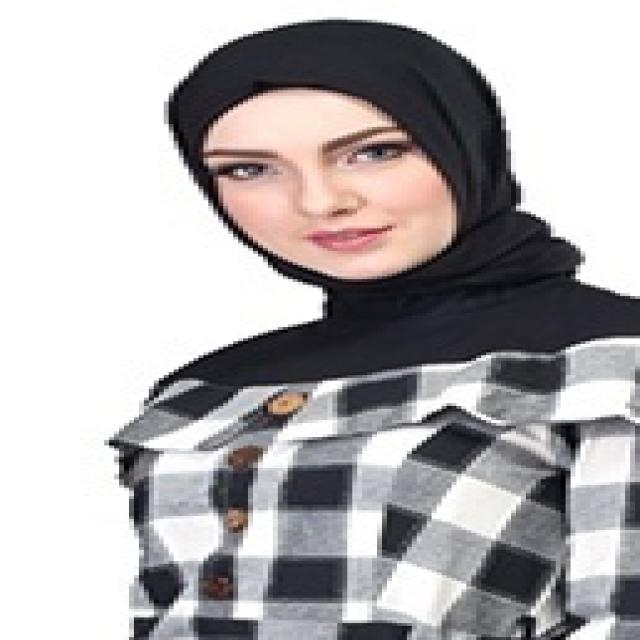head: (153, 19, 540, 297)
